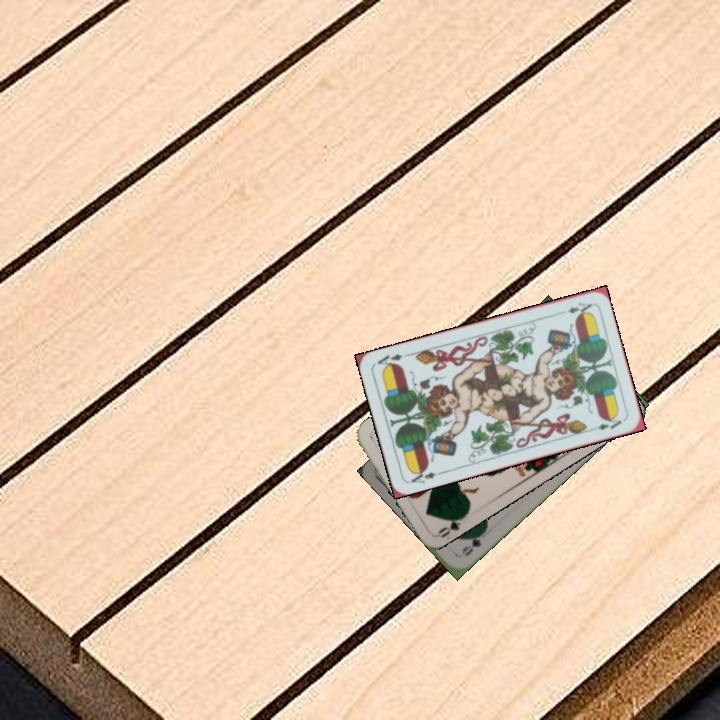EA: (407, 464, 445, 486), (563, 298, 594, 318)
GO: (434, 510, 469, 541), (458, 527, 487, 559)
